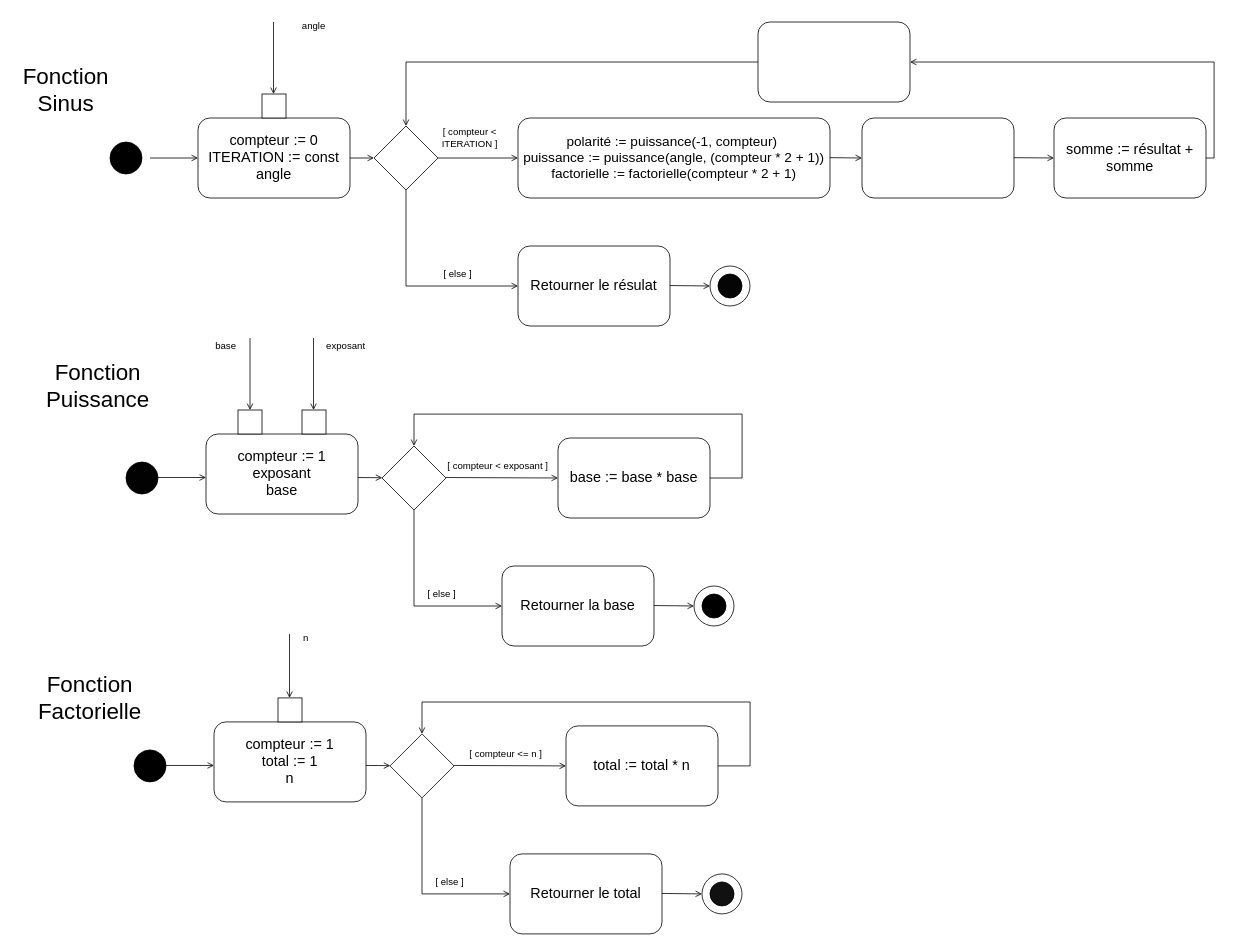
The diagram is 1234 pixels wide and 948 high, and some of its shapes have lost their labels. Here are the shapes that lost their labels. From the top down, the centre of each, then its label:
At [833,61]: "compteur := compteur + 1".
At [937,157]: "résultat := polarité * puissance / factorielle".
